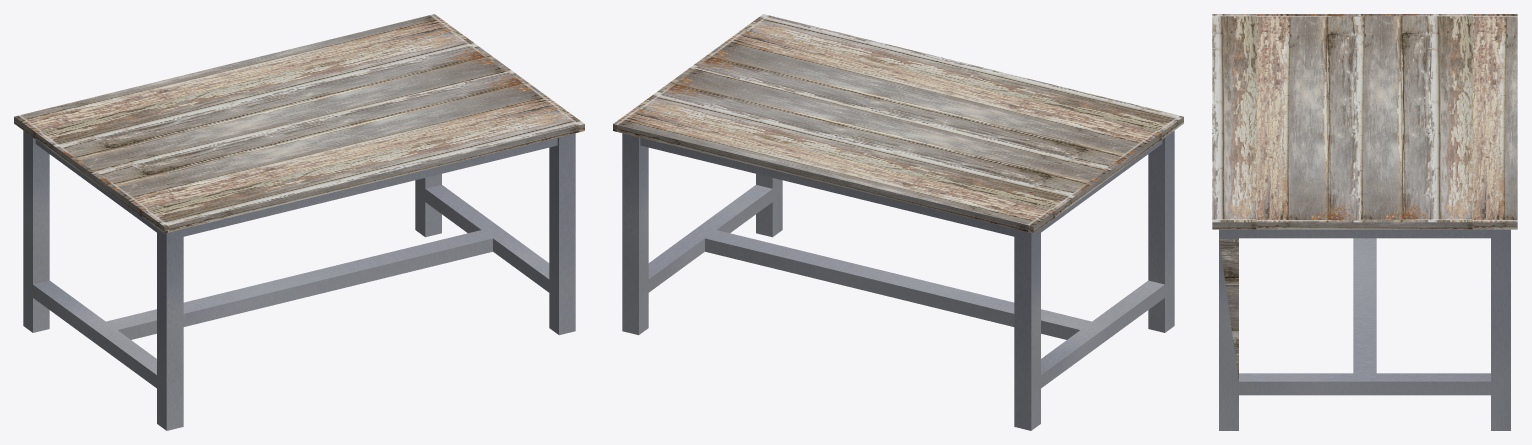
The model's file is Table.FBX.
3 renders of one model, left to right at view 1: azimuth 30°, elevation 25°; view 2: azimuth 150°, elevation 25°; view 3: azimuth 270°, elevation 25°, orthographic.
Parts seen in each view (by area): view 1: Table; view 2: Table; view 3: Table.
Boxes of the visible parts, box(x1,y1,x2,y2) form: Table: box(14, 14, 584, 430); Table: box(613, 14, 1183, 430); Table: box(1212, 14, 1517, 430).
Size of the model in its own units: 105 by 65 by 49.67.
2 materials, 2 textured.
